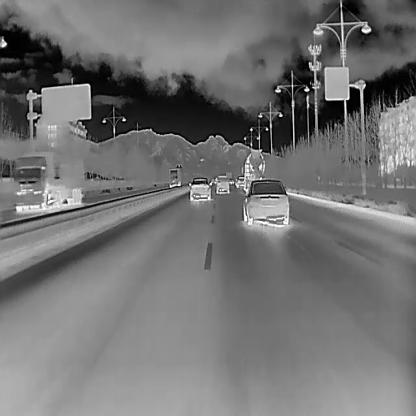car: (11, 149, 85, 213), (242, 178, 288, 224), (187, 176, 212, 201), (214, 176, 229, 194), (234, 174, 244, 188)
truck: (242, 147, 265, 193), (166, 166, 182, 187)
